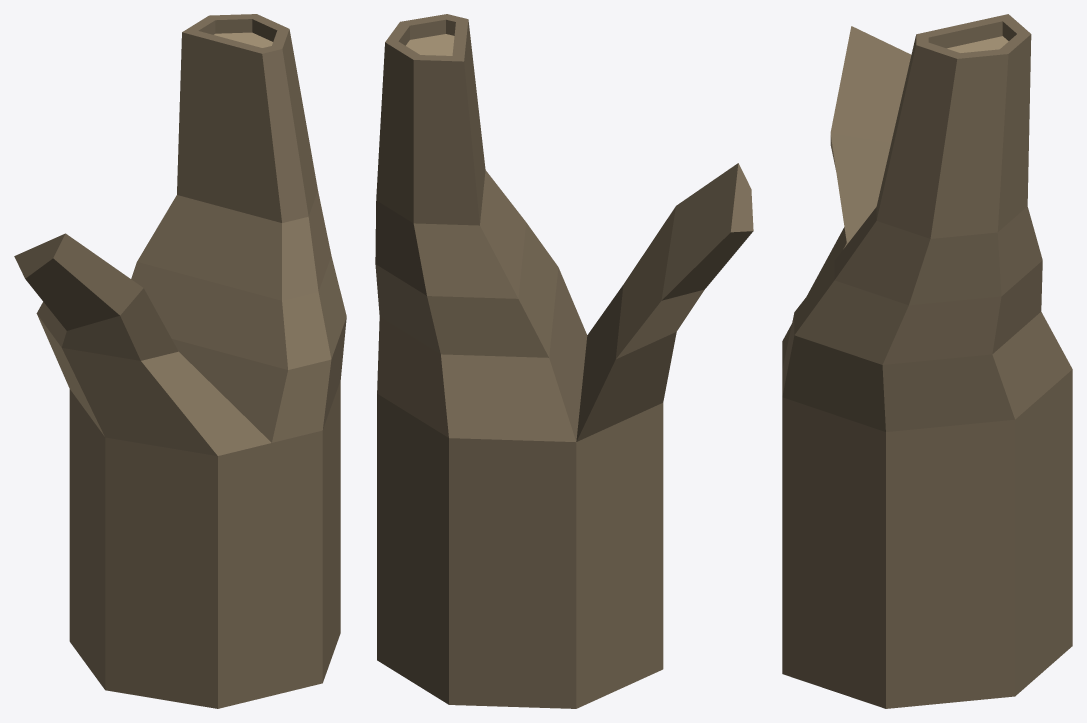
The model's file is LogSmall.fbx.
The picture shows the model from 3 angles, left to right: view 1: azimuth 30°, elevation 25°; view 2: azimuth 150°, elevation 25°; view 3: azimuth 270°, elevation 25°; orthographic projection. The views are drawn at different scales.
Parts seen in each view (by area): view 1: Cylinder; view 2: Cylinder; view 3: Cylinder.
Part boxes in pixels (x1,y1,x2,y2): Cylinder: (14,14,346,708); Cylinder: (375,14,753,708); Cylinder: (782,14,1072,708).
Bounding box in the file's own units: 40.08 × 69.37 × 28.51.
